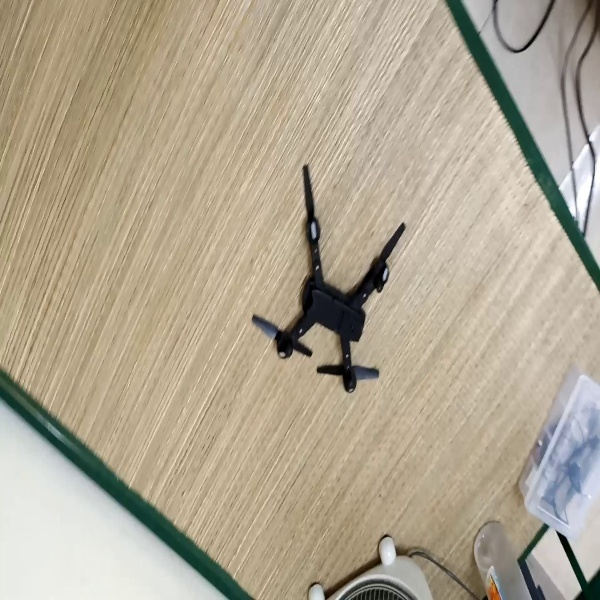drone: (249, 163, 408, 396)
